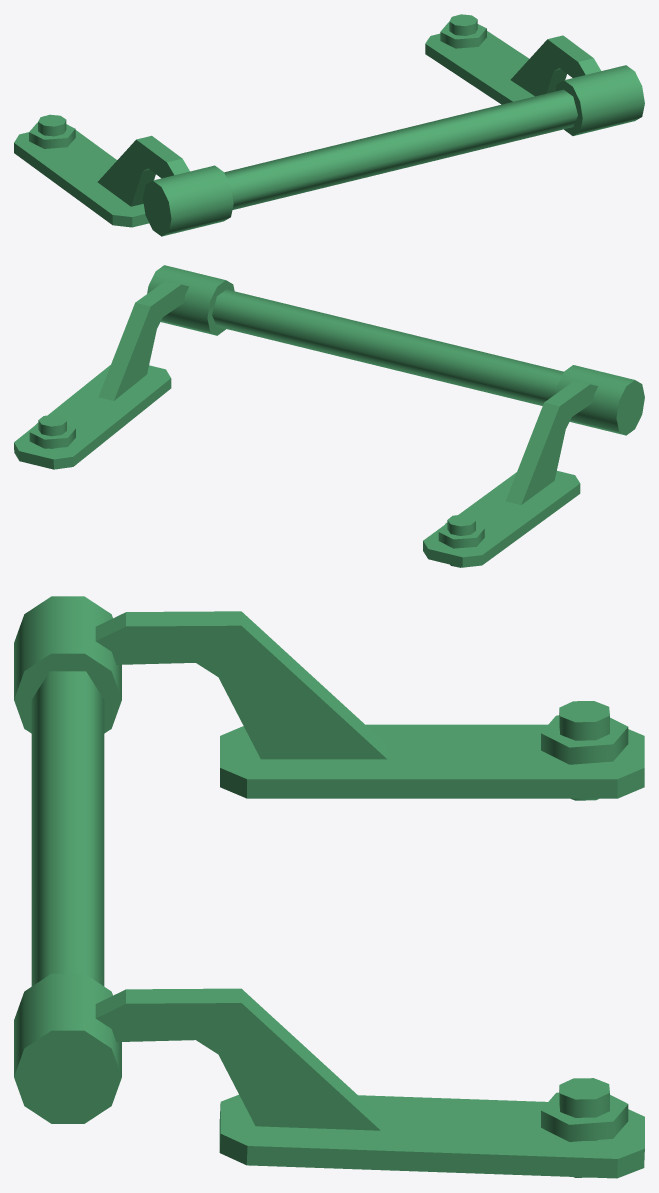
Rendered from notrans road lighter.FBX.
The picture shows the model from 3 angles, top to bottom: view 1: azimuth 30°, elevation 25°; view 2: azimuth 150°, elevation 25°; view 3: azimuth 270°, elevation 25°; orthographic projection. The views are drawn at different scales.
Parts seen in each view (by area): view 1: Object1209; view 2: Object1209; view 3: Object1209.
Boxes of the visible parts, x1,y1,x2,y2 form: Object1209: [14, 14, 644, 236]; Object1209: [14, 265, 644, 567]; Object1209: [14, 596, 644, 1178].
Size of the model in its own units: 0.7619 by 0.1405 by 0.4674.
